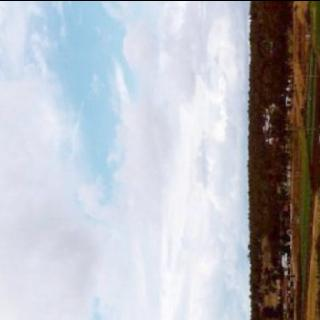Stratocumulus: (0, 0, 245, 320)
